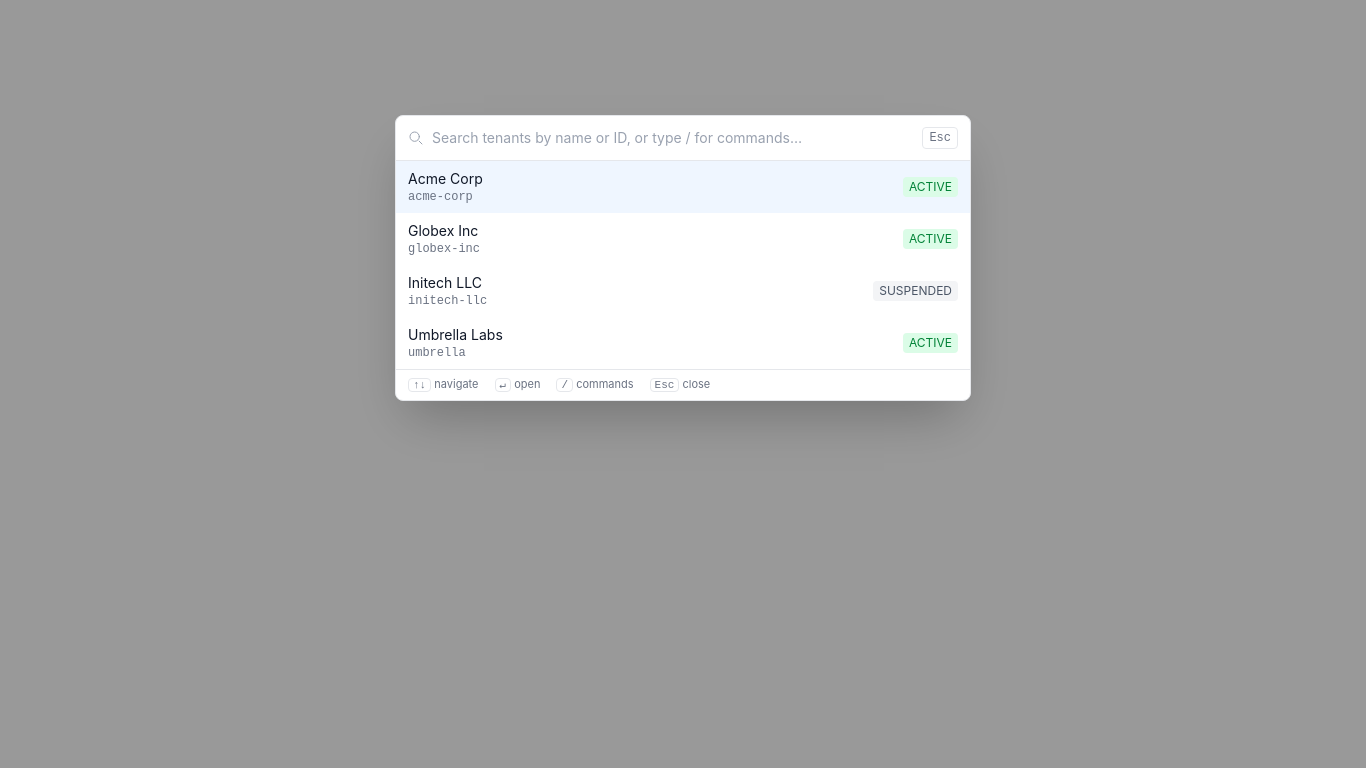
Test: CommandPalette › filters by name substring (case-insensitive)
This screenshot has width=1366, height=768.
Type "GLOB" into the dropdown with id "command-palette-input" at (673, 138), box x1=432 y1=116 x2=914 y2=160
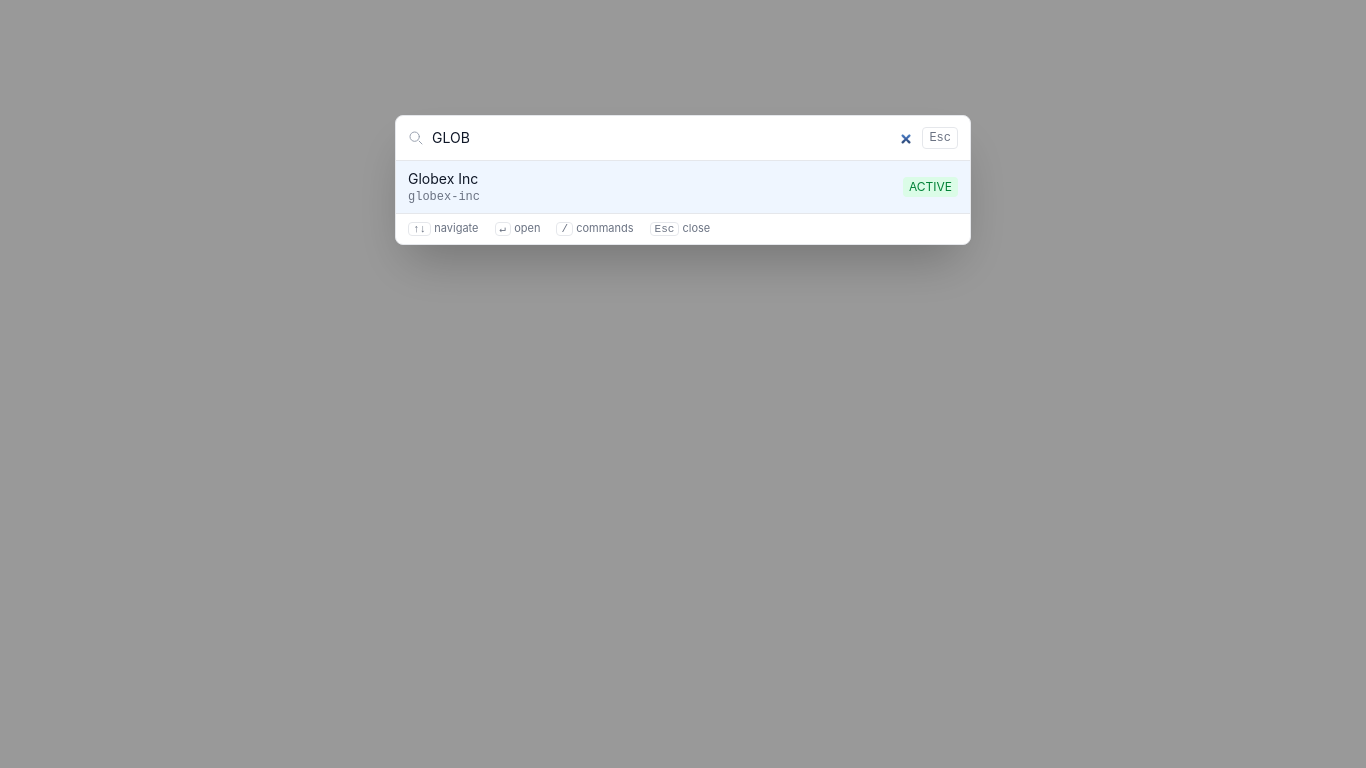
Expected: the option "Globex Inc globex-inc ACTIVE" is shown, x1=396 y1=161 x2=970 y2=213
Result: the number of options is 1 at x1=396 y1=161 x2=970 y2=213
